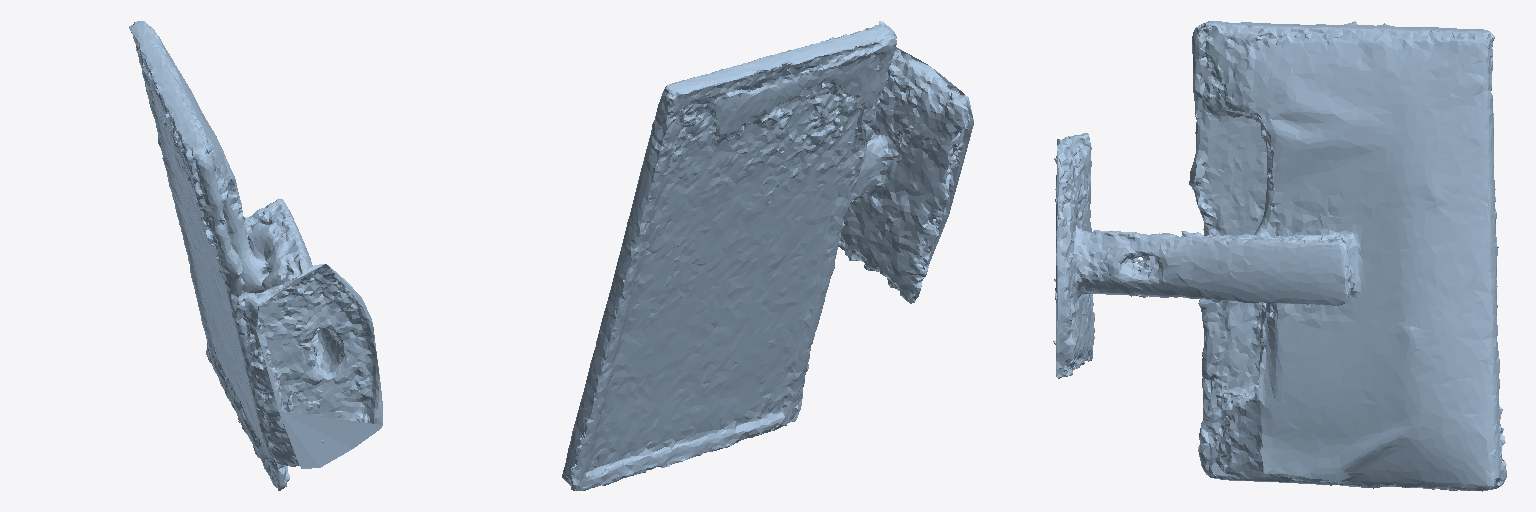
The robot description file, URDF, robot "monitor.urdf":
<?xml version="1.0" ?>
<robot name="monitor.urdf">
  <dynamics damping="0.5" friction="0.9"/>
  <link name="baseLink">
    <contact>
      <lateral_friction value="0.9"/>
      <rolling_friction value="0.5"/>
      <stiffness value="30000"/>
      <damping value="1000"/>
    </contact>
    <visual>
      <origin rpy="0 0 0" xyz="0 0 0"/>
      <geometry>
        <mesh filename="meshes/monitor/monitor.obj" scale="1.0 1.0 1.0"/>
      </geometry>
       <material name="mat">
        <color rgba="0.7 0.8 0.9 1"/>
      </material>
    </visual>
    <collision>
      <origin rpy="0 0 0" xyz="0 0 0"/>
      <geometry>
	 	<mesh filename="meshes/monitor/monitor.obj" scale="1.0 1.0 1.0"/>
      </geometry>
    </collision>
  </link>
</robot>

--- Facts derived from the render (not from the file) ---
3 views of the same robot in one strip: view 1: azimuth 30°, elevation 25°; view 2: azimuth 150°, elevation 25°; view 3: azimuth 270°, elevation 25° (orthographic).
Model monitor.urdf with 1 links and 0 joints (none), rooted at baseLink, posed all joints at 0.
Visible links, largest first — view 1: baseLink; view 2: baseLink; view 3: baseLink.
Link boxes in pixels (box(x1,y1,x2,y2)): baseLink: box(129, 21, 382, 490); baseLink: box(562, 21, 973, 490); baseLink: box(1053, 21, 1506, 491).
Size in the robot's own frame: 0.2675 by 0.5396 by 0.5722 metres.
1 mesh visuals loaded from 1 distinct referenced files (1 OBJ).
